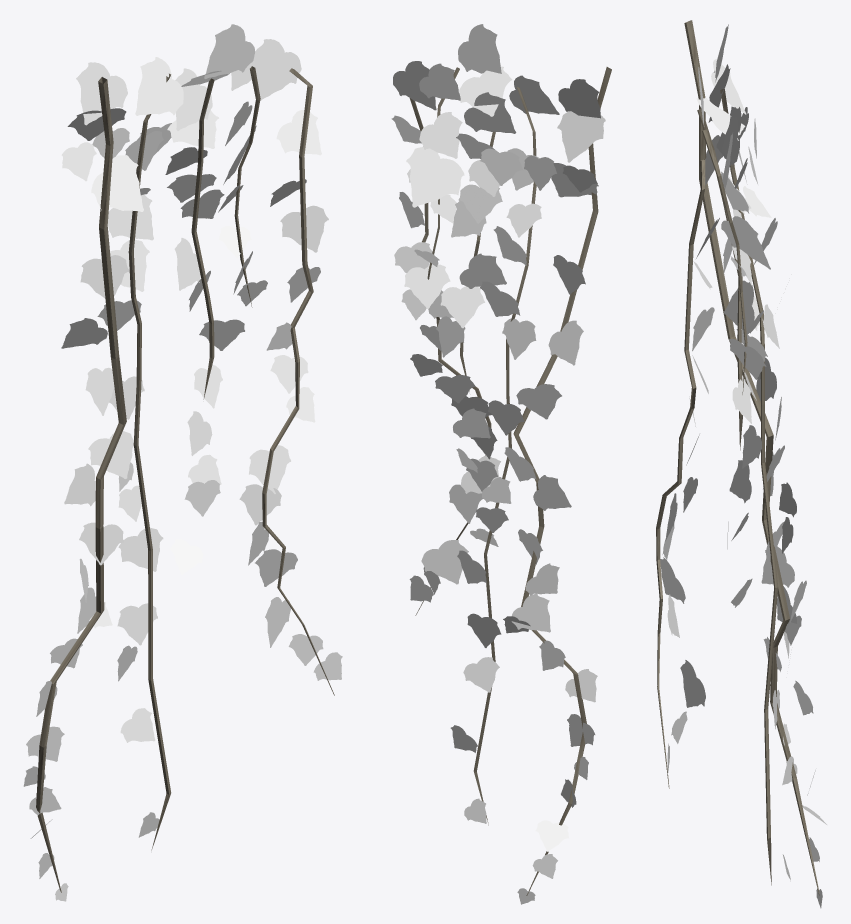
The model's file is Ivy_B_02.fbx.
3 views of the same model, side by side, from view 1: azimuth 30°, elevation 25°; view 2: azimuth 150°, elevation 25°; view 3: azimuth 270°, elevation 25° (orthographic). The views are drawn at different scales.
Visible parts, largest first — view 1: Ivy_B_02; view 2: Ivy_B_02; view 3: Ivy_B_02.
Part boxes in pixels (x1,y1,x2,y2): Ivy_B_02: [23, 24, 342, 901]; Ivy_B_02: [391, 24, 611, 904]; Ivy_B_02: [656, 20, 826, 908].
Bounding box in the file's own units: 226 × 703 × 131.
Materials: 2 (2 with a texture image).
